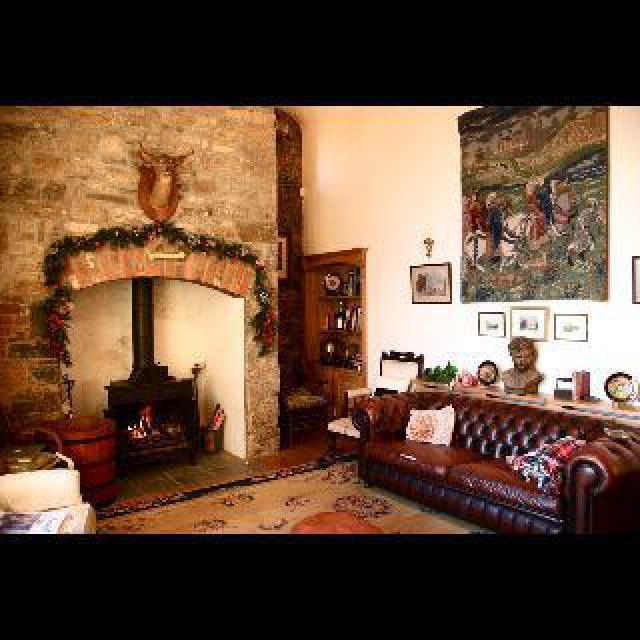Fire: (126, 408, 162, 434)
